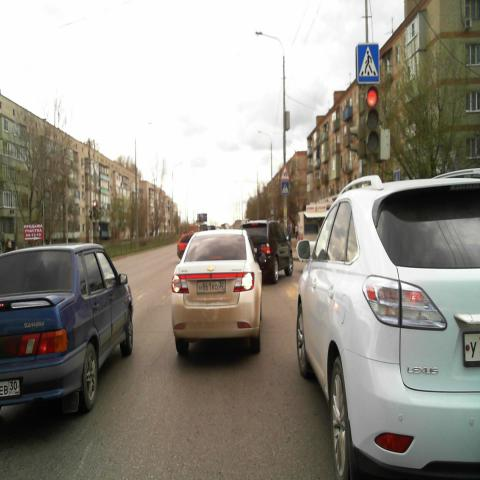1_23: (281, 166, 289, 178)
